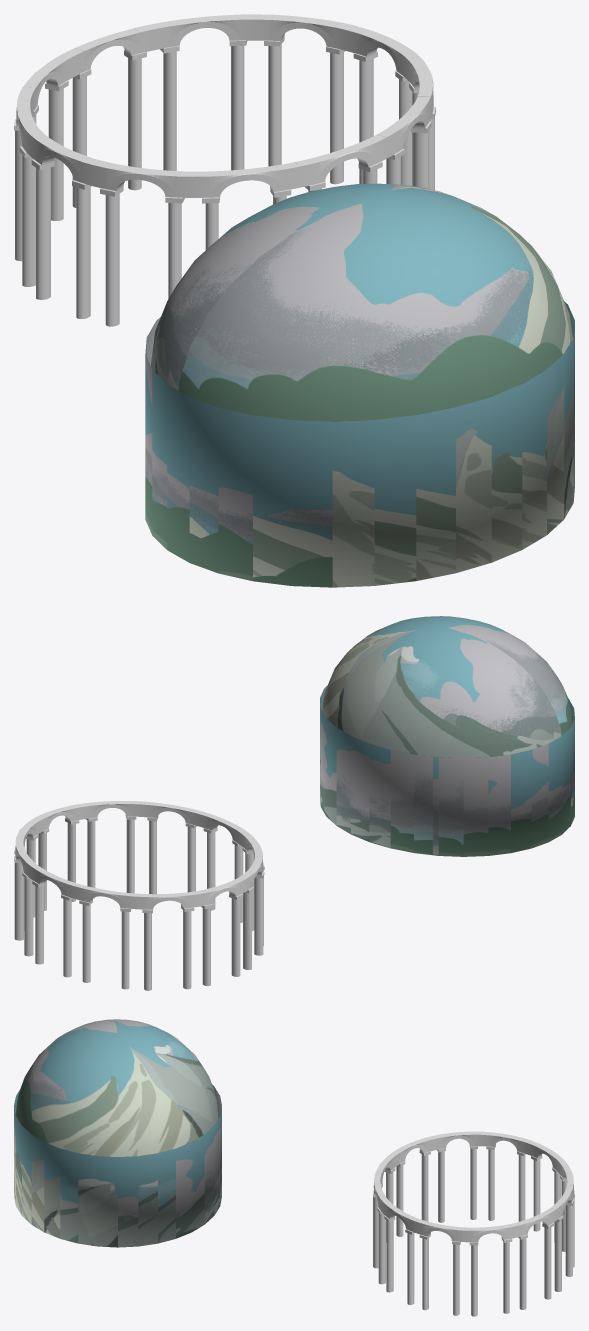
Rendered from pillars2.fbx.
3 renders of one model, top to bottom at view 1: azimuth 30°, elevation 25°; view 2: azimuth 150°, elevation 25°; view 3: azimuth 270°, elevation 25°, orthographic. The views are drawn at different scales.
Visible parts, largest first — view 1: Sphere, Cube.001; view 2: Sphere, Cube.001; view 3: Sphere, Cube.001.
Boxes of the visible parts, x1,y1,x2,y2 form: Sphere: (145, 183, 574, 587); Cube.001: (14, 14, 435, 326); Sphere: (320, 616, 574, 856); Cube.001: (14, 801, 264, 990); Sphere: (14, 1019, 221, 1247); Cube.001: (373, 1131, 574, 1316).
Size of the model in its own units: 11295 by 6321 by 17577.
